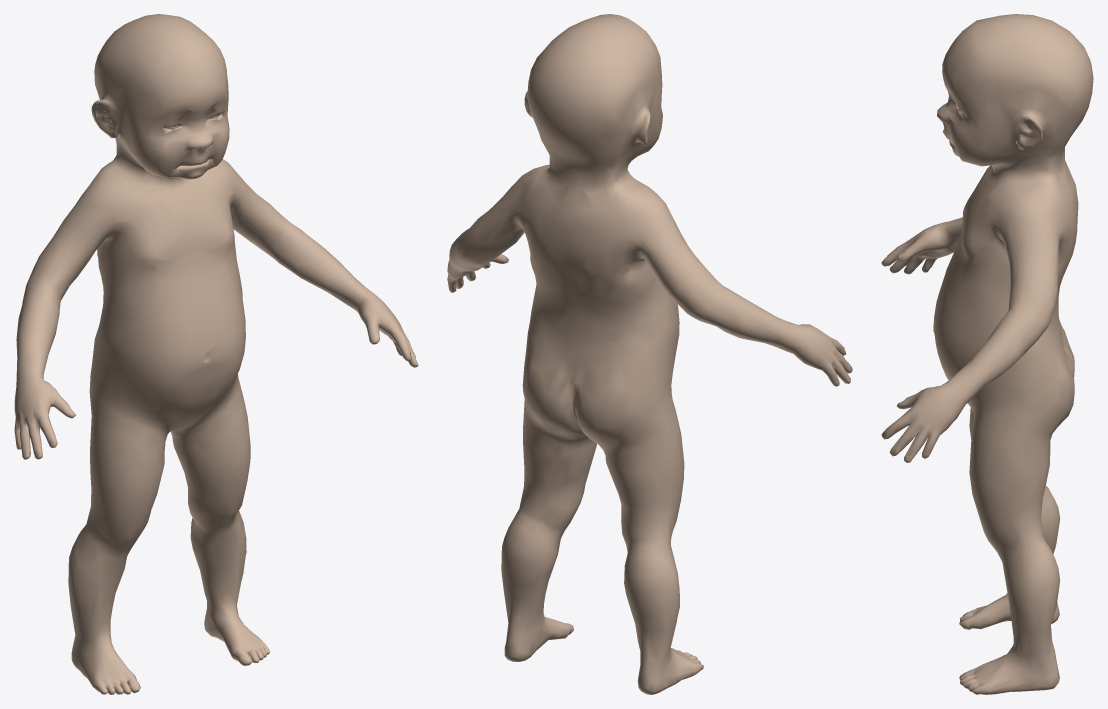
The model's file is before_baby.dae.
3 views of the same model, side by side, from view 1: azimuth 30°, elevation 25°; view 2: azimuth 150°, elevation 25°; view 3: azimuth 270°, elevation 25° (orthographic).
Parts seen in each view (by area): view 1: Baby_Body; view 2: Baby_Body; view 3: Baby_Body.
Boxes of the visible parts, x1,y1,x2,y2 form: Baby_Body: (14,14,418,694); Baby_Body: (447,14,852,694); Baby_Body: (881,14,1093,694).
Bounding box in the file's own units: 3.87 × 1.82 × 6.02.
